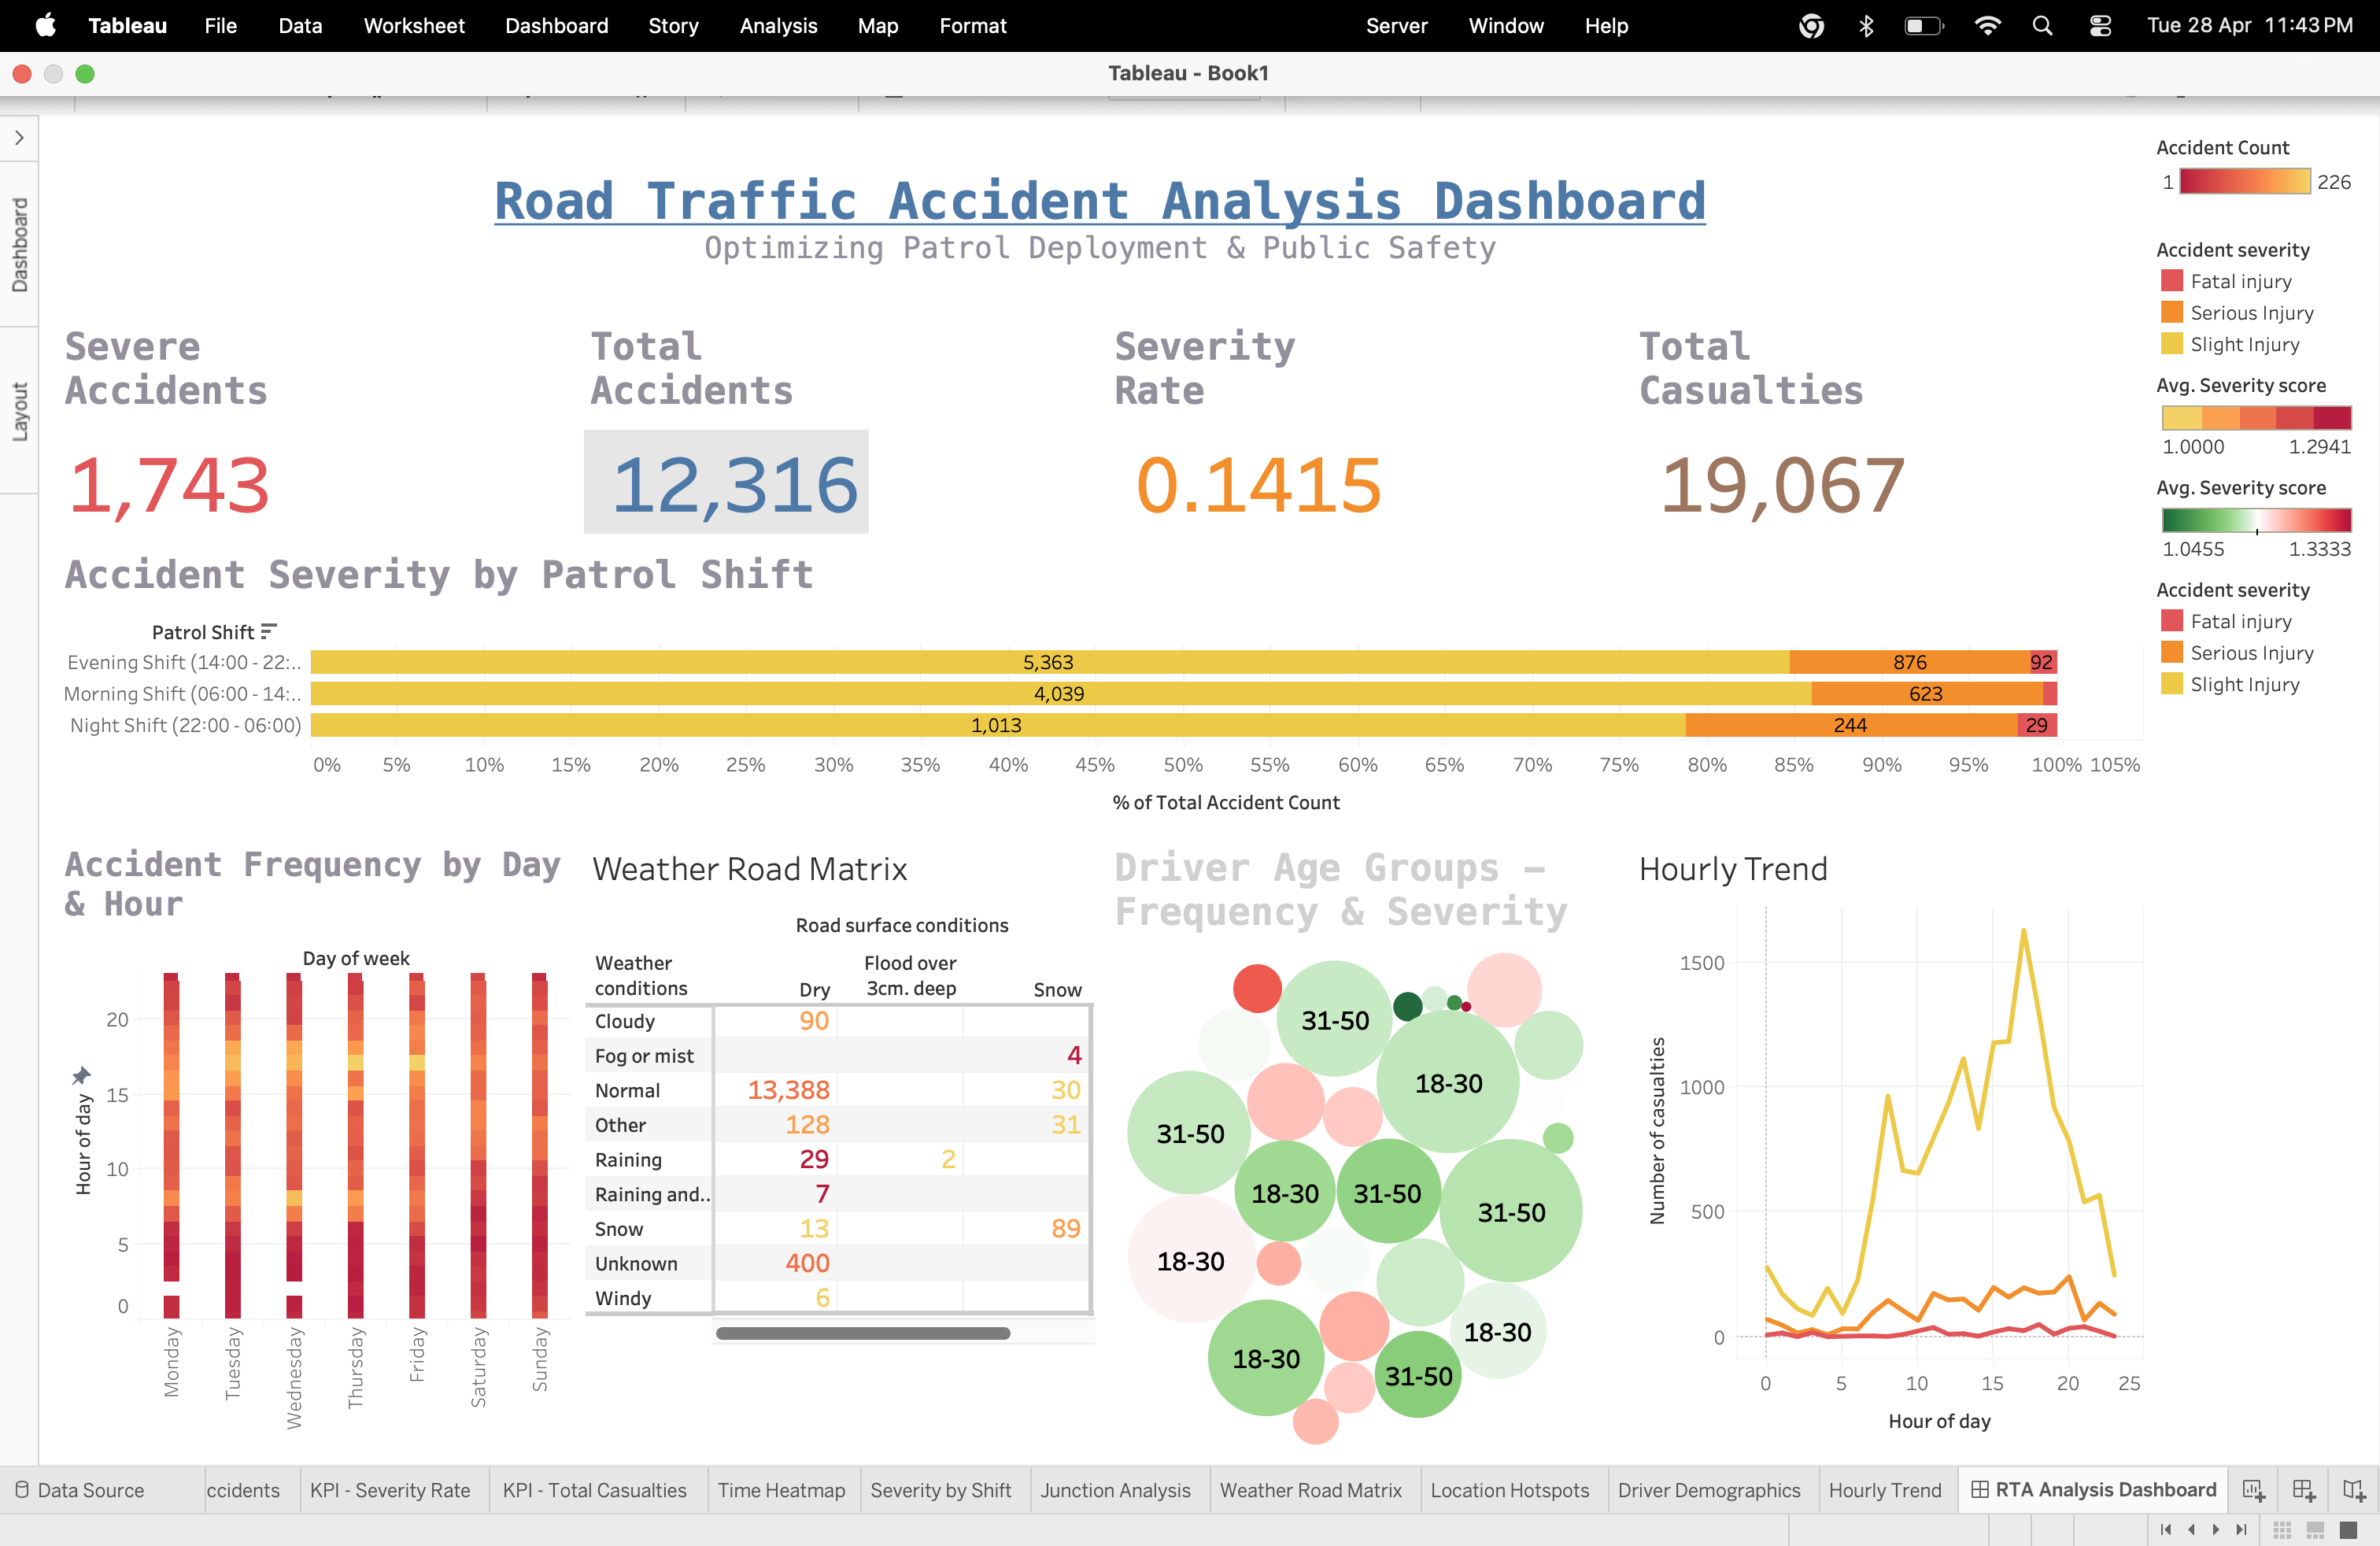

The page's visual inventory and layout, read from the dashboard file:
{"tool":"tableau","page":{"name":"RTA Analysis Dashboard","canvas":[1000,1000],"units":"permille","ordinal":0},"visuals":[{"type":"text","box":[5.4,9.3,897.1,136.5]},{"type":"legend","title":"Time Heatmap","param":"[federated.0qwj3a40u0tkc71cafg4a02s011t].[sum:Calculation_0380014650724353:qk]","box":[902.4,9.3,92.2,75.8]},{"type":"legend","title":"Severity by Shift","param":"[federated.0qwj3a40u0tkc71cafg4a02s011t].[none:Accident_severity:nk]","box":[902.4,85.2,92.2,100.4]},{"type":"worksheet","title":" KPI - Severe Accidents","mark":"Automatic","box":[5.4,145.9,224.8,169.2]},{"type":"worksheet","title":"KPI - Total Accidents","mark":"Automatic","box":[230.2,145.9,224.1,169.2]},{"type":"worksheet","title":"KPI - Severity Rate","mark":"Automatic","box":[454.2,145.9,224.1,169.2]},{"type":"worksheet","title":" KPI - Total Casualties","mark":"Automatic","box":[678.3,145.9,224.1,169.2]},{"type":"legend","title":"Weather Road Matrix","param":"[federated.0qwj3a40u0tkc71cafg4a02s011t (copy 4)].[avg:Severity_score:qk]","box":[902.4,185.5,92.2,75.8]},{"type":"legend","title":"Driver Demographics","param":"[federated.0qwj3a40u0tkc71cafg4a02s011t (copy 2)].[avg:Severity_score:qk]","box":[902.4,261.4,92.2,75.8]},{"type":"worksheet","title":"Severity by Shift","mark":"Automatic","rows":["Patrol_Shift"],"box":[5.4,315,897.1,217]},{"type":"legend","title":"Hourly Trend","param":"[federated.0qwj3a40u0tkc71cafg4a02s011t (copy)].[none:Accident_severity:nk]","box":[902.4,337.2,92.2,100.4]},{"type":"worksheet","title":"Time Heatmap","mark":"Square","rows":["Hour_of_day"],"cols":["Day_of_week"],"box":[5.4,532.1,224.8,458.6]},{"type":"worksheet","title":"Weather Road Matrix","mark":"Automatic","rows":["Weather_conditions"],"cols":["Road_surface_conditions"],"box":[230.2,532.1,224.1,458.6]},{"type":"worksheet","title":"Driver Demographics","mark":"Circle","box":[454.2,532.1,224.1,458.6]},{"type":"worksheet","title":"Hourly Trend","mark":"Line","rows":["Number_of_casualties"],"cols":["Hour_of_day"],"box":[678.3,532.1,224.1,458.6]}]}

Visuals, with their boxes on the dashboard's canvas, which has no fixed pixel size, in thousandths of its width and height (x1, y1, x2, y2). These are canvas units, not pixel positions in the 2380x1546 screenshot, which may show the page scaled, cropped or inside an application window:
text: 5/9/902/146
"Time Heatmap" legend: 902/9/995/85
"Severity by Shift" legend: 902/85/995/186
" KPI - Severe Accidents" worksheet: 5/146/230/315
"KPI - Total Accidents" worksheet: 230/146/454/315
"KPI - Severity Rate" worksheet: 454/146/678/315
" KPI - Total Casualties" worksheet: 678/146/902/315
"Weather Road Matrix" legend: 902/186/995/261
"Driver Demographics" legend: 902/261/995/337
"Severity by Shift" worksheet: 5/315/902/532
"Hourly Trend" legend: 902/337/995/438
"Time Heatmap" worksheet (Square marks): 5/532/230/991
"Weather Road Matrix" worksheet: 230/532/454/991
"Driver Demographics" worksheet (Circle marks): 454/532/678/991
"Hourly Trend" worksheet (Line marks): 678/532/902/991
